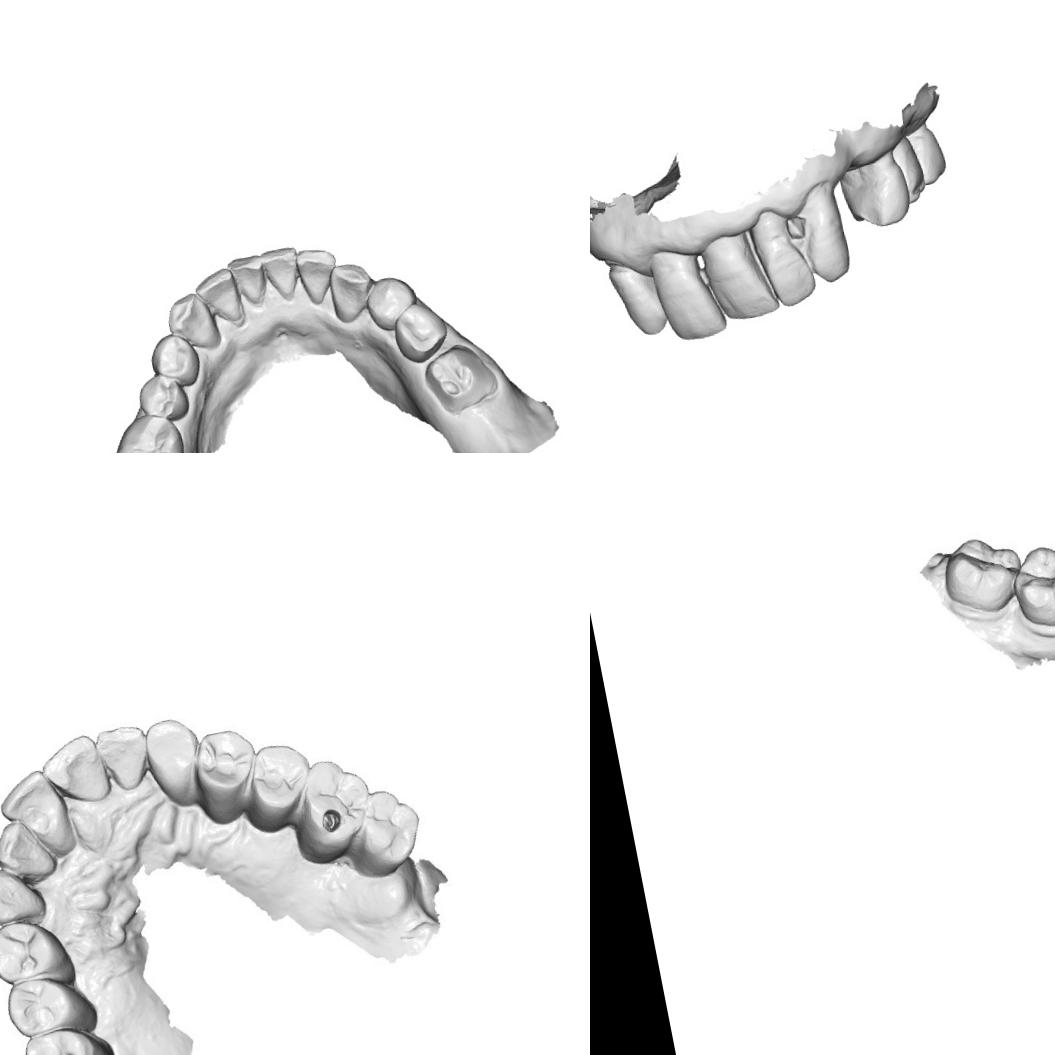canine: (136, 706, 211, 814), (604, 253, 670, 341), (162, 287, 224, 356), (324, 259, 380, 326), (0, 856, 45, 930)
incisor: (642, 238, 730, 347), (696, 238, 780, 326), (0, 767, 70, 856), (754, 229, 821, 312), (42, 735, 111, 812), (800, 211, 858, 288), (92, 722, 152, 794), (0, 818, 61, 887), (190, 262, 246, 331), (292, 243, 344, 308), (257, 243, 306, 306), (226, 249, 271, 312)
molar: (278, 750, 377, 870), (930, 524, 1028, 622), (335, 780, 430, 881), (418, 337, 502, 419), (999, 532, 1055, 639), (104, 406, 192, 453), (19, 1017, 122, 1055), (902, 120, 952, 188)
premolar: (0, 966, 102, 1048), (236, 736, 319, 836), (0, 908, 83, 999), (192, 722, 258, 827), (836, 153, 914, 234), (388, 296, 452, 367), (360, 271, 423, 335), (144, 328, 206, 392), (133, 368, 192, 427), (884, 131, 928, 206)
